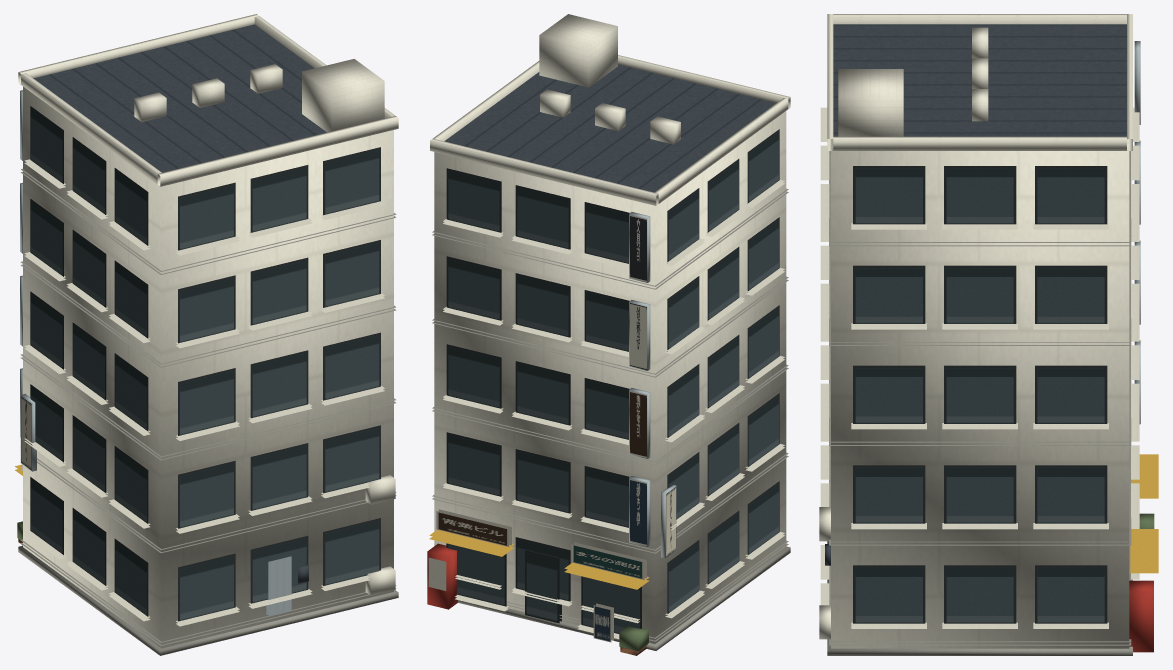
Rendered from shop_007.lod1.obj.
3 renders of one model, left to right at view 1: azimuth 30°, elevation 25°; view 2: azimuth 150°, elevation 25°; view 3: azimuth 270°, elevation 25°, orthographic. The views are drawn at different scales.
Parts seen in each view (by area): view 1: shop_007; view 2: shop_007; view 3: shop_007.
Part boxes in pixels (<box>): shop_007: <box>15,14,398,655</box>; shop_007: <box>427,14,790,655</box>; shop_007: <box>819,14,1158,655</box>.
Size of the model in its own units: 8.57 by 16.95 by 9.4.
Materials: 1 (1 with a texture image).
